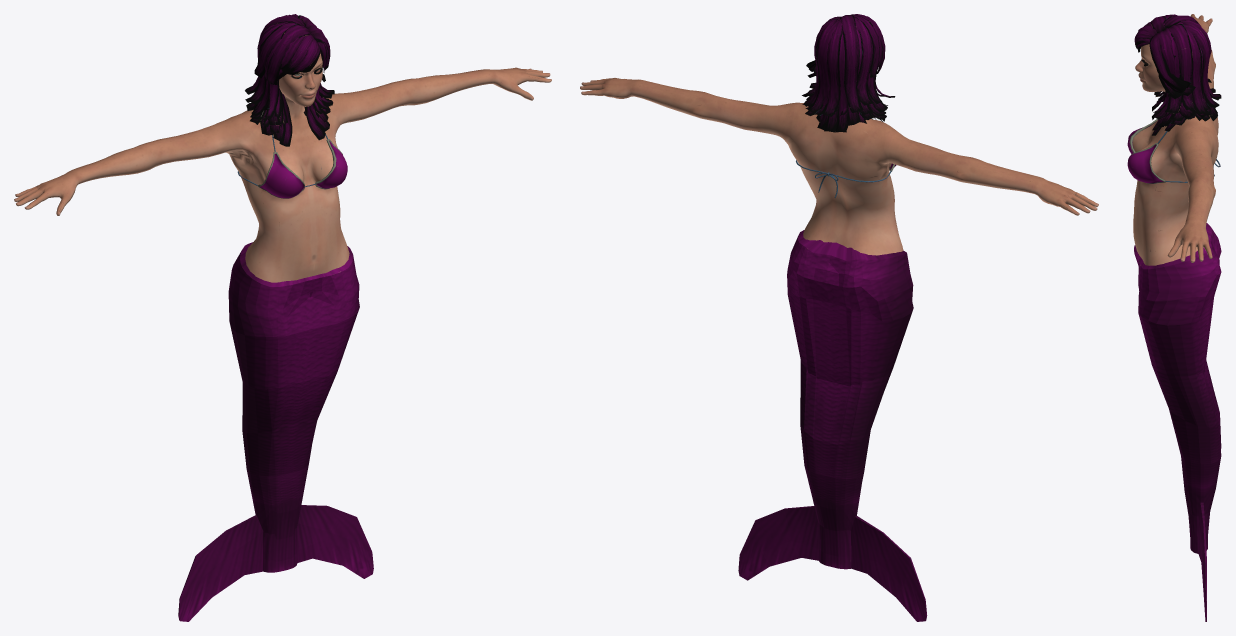
Rendered from Mermaid-bl.obj.
The picture shows the model from 3 angles, left to right: view 1: azimuth 30°, elevation 25°; view 2: azimuth 150°, elevation 25°; view 3: azimuth 270°, elevation 25°; orthographic projection. The views are drawn at different scales.
Parts seen in each view (by area): view 1: Mermaid.001; view 2: Mermaid.001; view 3: Mermaid.001.
Part boxes in pixels (<box>): Mermaid.001: <box>14,14,551,621</box>; Mermaid.001: <box>580,14,1098,621</box>; Mermaid.001: <box>1127,14,1221,621</box>.
Bounding box in the file's own units: 6.43 × 6.83 × 1.03.
Materials: 1 (1 with a texture image).
